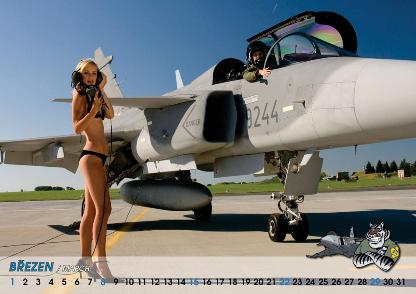JAS39: (0, 10, 416, 240), (321, 172, 335, 179)
